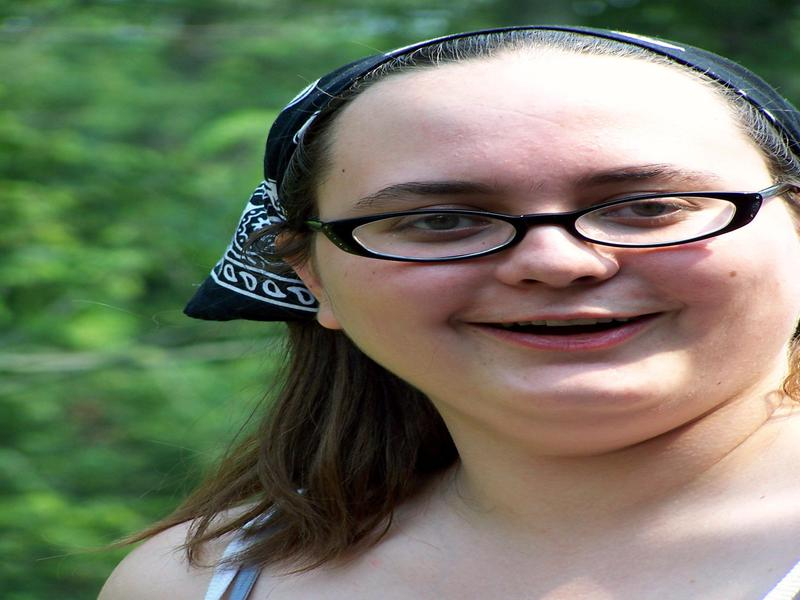person: (94, 26, 799, 598)
